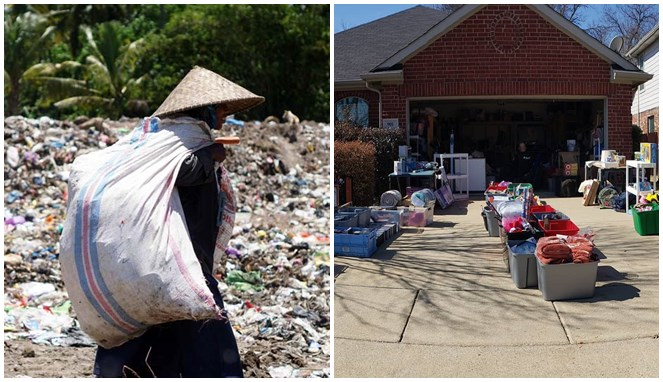pemulung: (58, 61, 267, 382)
